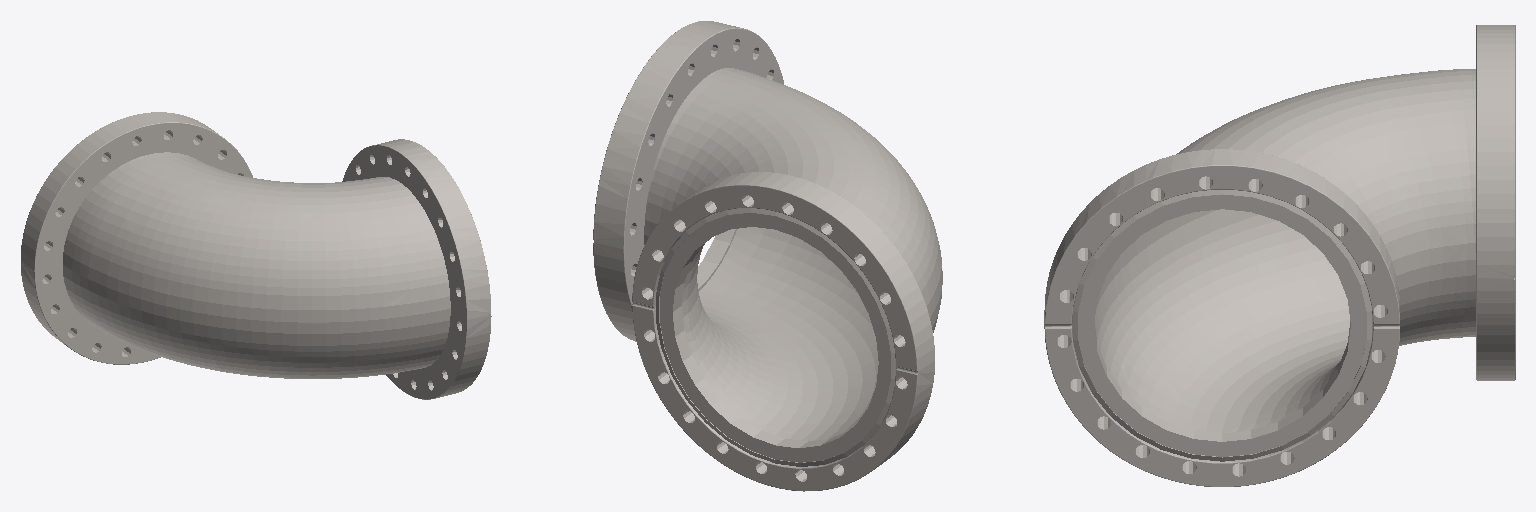
robot.urdf — P102183:
<robot
  name="P102183">
  <link
    name="P102183">
    <inertial>
      <origin
        xyz="0.069796 -3.11949999999573E-06 0.069807"
        rpy="0 0 0" />
      <mass
        value="6.1923" />
      <inertia
        ixx="0.068077102441757"
        ixy="1.59646342701941E-06"
        ixz="-0.0299560781515783"
        iyy="0.0904972504008226"
        iyz="1.70340389475344E-06"
        izz="0.0680827224732661" />
    </inertial>
    <visual>
      <origin
        xyz="1.5707963267949 0 0"
        rpy="0 0 0" />
      <geometry>
        <mesh
          filename="package://cr_mit/URDF/P102183/meshes/P102183.STL" />
      </geometry>
      <material
        name="">
        <color
          rgba="0.77647 0.75686 0.73725 1" />
      </material>
    </visual>
    <collision>
      <origin
        xyz="0 0 0"
        rpy="1.5707963267949 0 0" />
      <geometry>
        <mesh
          filename="package://cr_mit/URDF/P102183/meshes/P102183.STL" />
      </geometry>
    </collision>
  </link>
</robot>

--- What the picture shows (computed from the rendered views, not written in the file) ---
Views: 3 orthographic renders of the robot side by side, from view 1: azimuth 30°, elevation 25°; view 2: azimuth 150°, elevation 25°; view 3: azimuth 270°, elevation 25°.
Model P102183 with 1 links and 0 joints (none), rooted at P102183, posed every joint at zero.
Links seen in each view (by area): view 1: P102183; view 2: P102183; view 3: P102183.
Link boxes in pixels (x1,y1,x2,y2): P102183: [21, 112, 491, 399]; P102183: [593, 21, 942, 491]; P102183: [1044, 25, 1515, 486].
Size in the robot's own frame: 0.2678 by 0.2678 by 0.2022 metres.
Meshes: 1 distinct files referenced, 1 mesh visuals loaded (1 binary STL).
